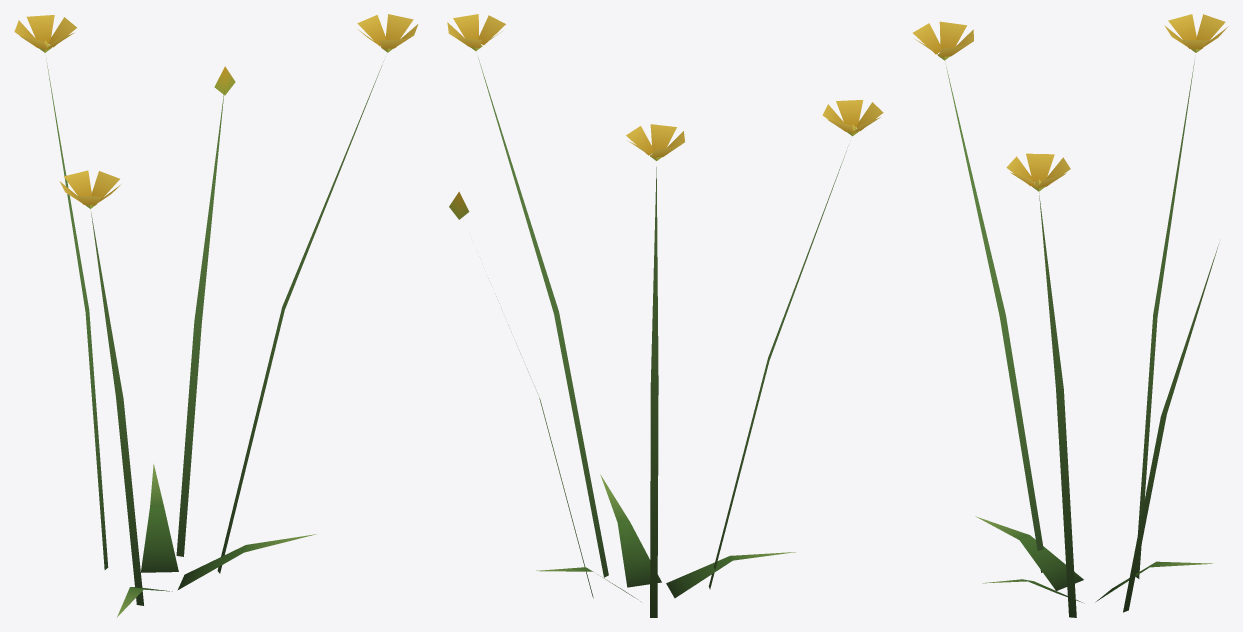
Rendered from flower_yellow_01.glb.
3 views of the same model, side by side, from view 1: azimuth 30°, elevation 25°; view 2: azimuth 150°, elevation 25°; view 3: azimuth 270°, elevation 25° (orthographic). The views are drawn at different scales.
Visible parts, largest first — view 1: flower_yellow_01_mesh; view 2: flower_yellow_01_mesh; view 3: flower_yellow_01_mesh.
Part boxes in pixels (bbox=[...]): flower_yellow_01_mesh: bbox=[14, 14, 418, 617]; flower_yellow_01_mesh: bbox=[447, 14, 883, 617]; flower_yellow_01_mesh: bbox=[913, 14, 1228, 617].
Bounding box in the file's own units: 0.2462 × 0.3109 × 0.1668.
